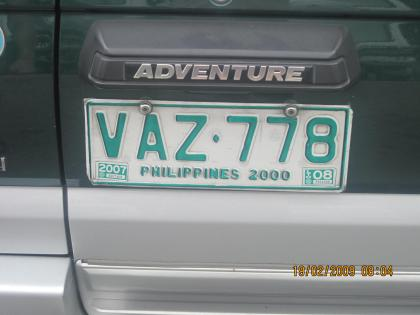plate: (85, 99, 351, 191)
